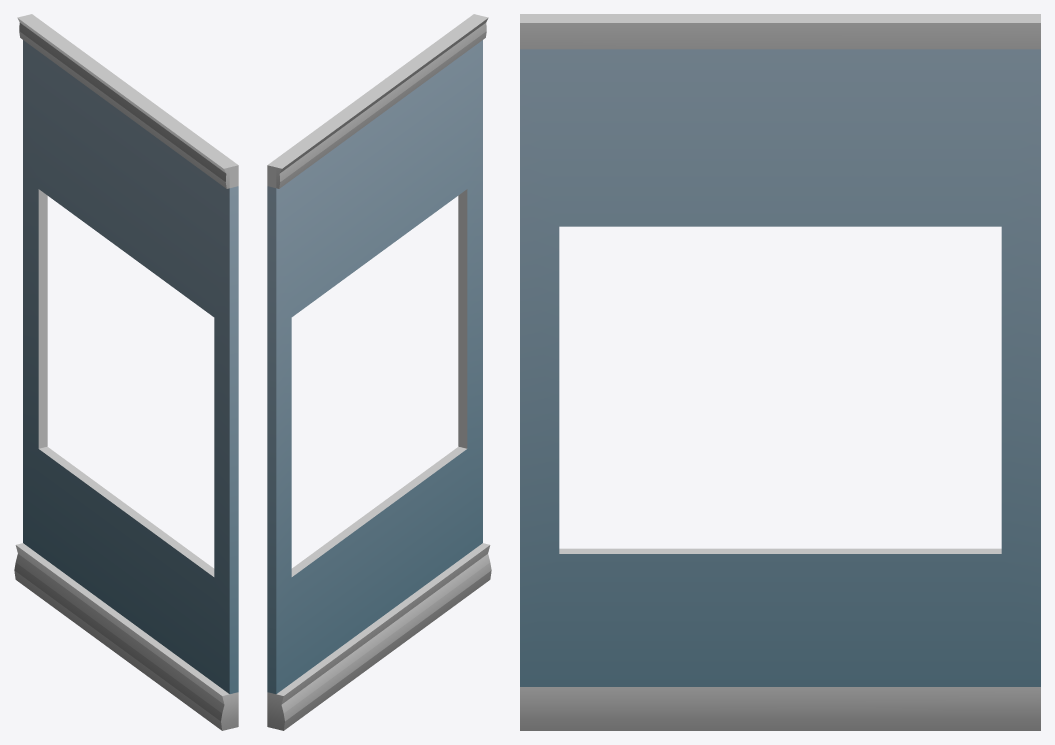
The model's file is SchoolPack2023WallWindow2.fbx.
3 renders of one model, left to right at view 1: azimuth 30°, elevation 25°; view 2: azimuth 150°, elevation 25°; view 3: azimuth 270°, elevation 25°, orthographic. The views are drawn at different scales.
Visible parts, largest first — view 1: Plane.041; view 2: Plane.041; view 3: Plane.041.
Part boxes in pixels (bbox=[...]): Plane.041: bbox=[14, 14, 238, 730]; Plane.041: bbox=[267, 14, 491, 730]; Plane.041: bbox=[520, 14, 1040, 730].
Bounding box in the file's own units: 19.8 × 600 × 400.
